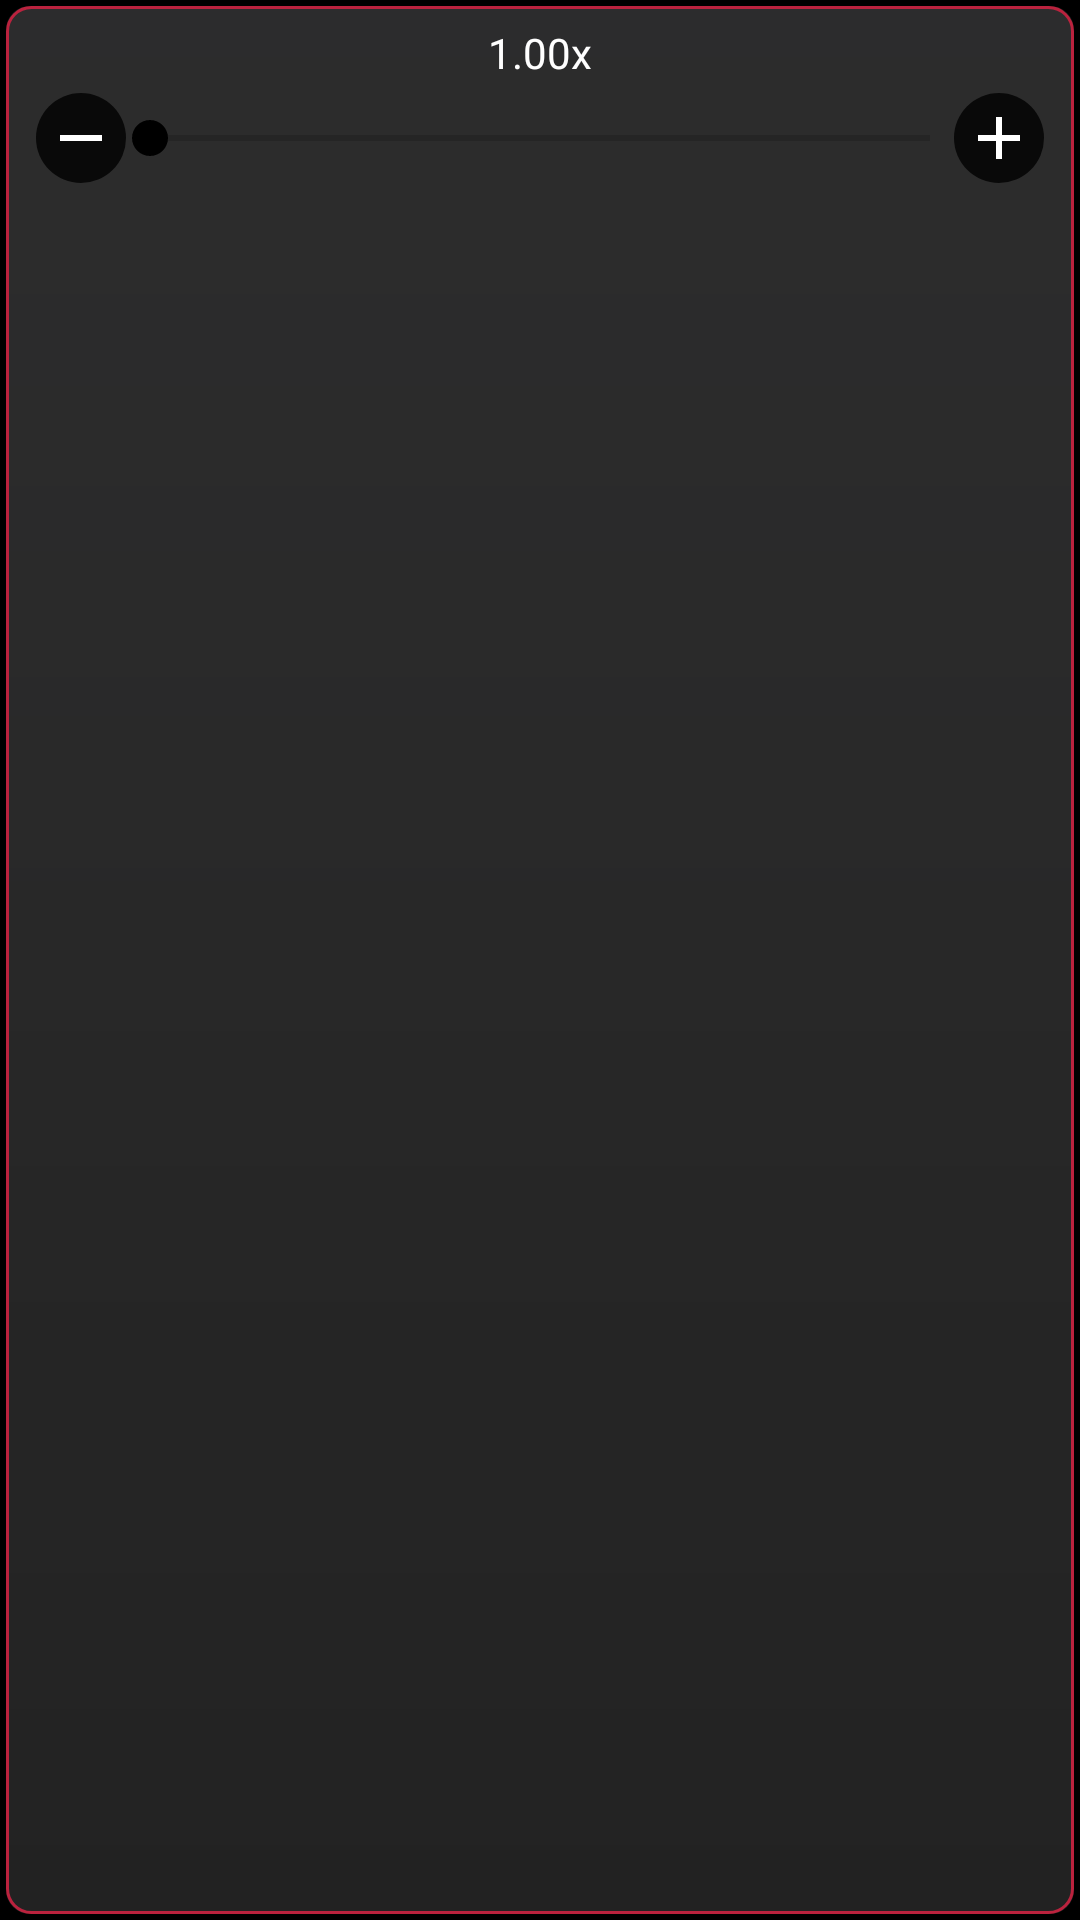

Icons on this 1080px×1920px Android screen, each with the point to tap as (x,y):
Decrease speed: (81,138)
Increase speed: (999,138)
